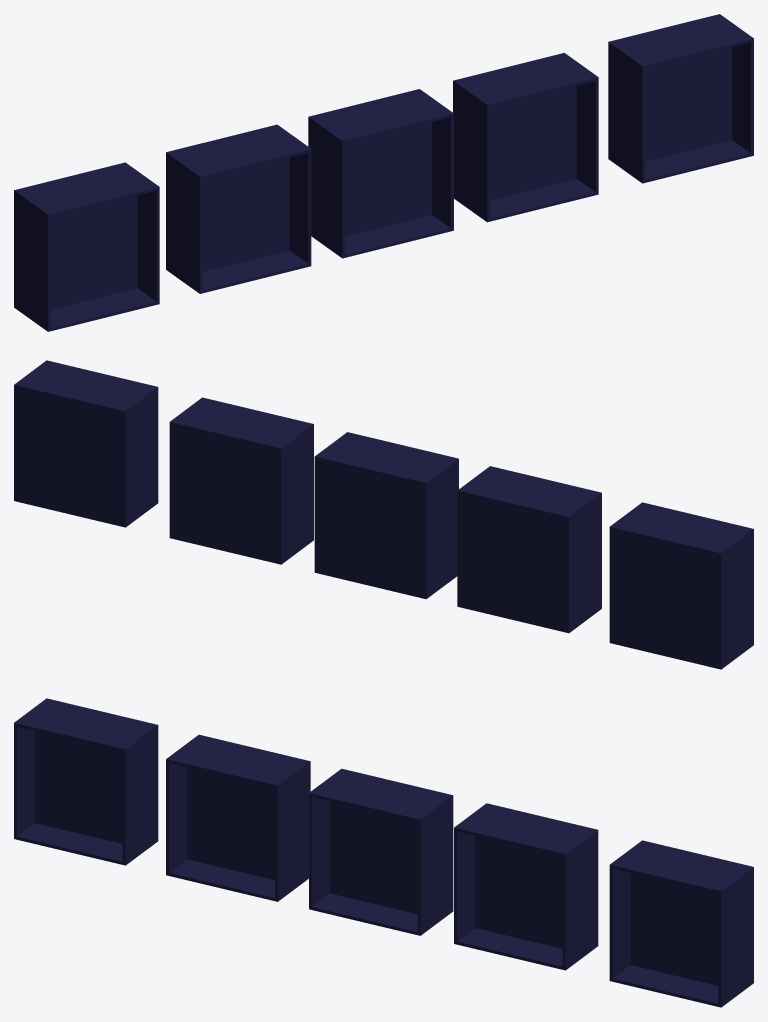
The model's file is cube.047_material.378_0_lev1.glb.
The picture shows the model from 3 angles, top to bottom: view 1: azimuth 30°, elevation 25°; view 2: azimuth 150°, elevation 25°; view 3: azimuth 330°, elevation 25°; orthographic projection.
Visible parts, largest first — view 1: cube.047_material.378_0_lev1; view 2: cube.047_material.378_0_lev1; view 3: cube.047_material.378_0_lev1.
Boxes of the visible parts, x1,y1,x2,y2 form: cube.047_material.378_0_lev1: [14, 14, 753, 331]; cube.047_material.378_0_lev1: [14, 360, 753, 669]; cube.047_material.378_0_lev1: [14, 698, 753, 1007].
Bounding box in the file's own units: 0.5479 × 0.0865 × 0.0503.
